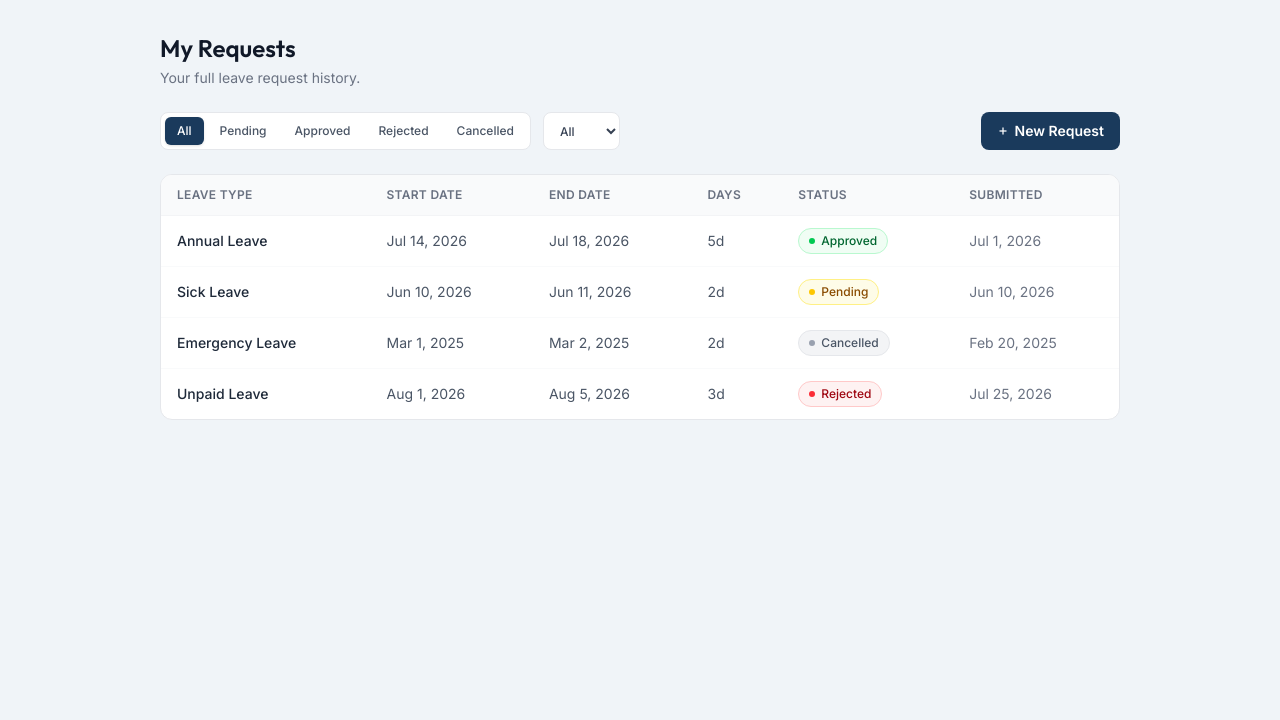
it: MyRequests cancel › shows a confirmation prompt before firing the POST
Expected: the text "Annual Leave" is shown, [161,216,370,266]
Click the button "Sick Leave Jun 10, 2026 Jun 11, 2026 2d Pending Jun 10, 2026" at [213, 292], box [161,266,1119,318]
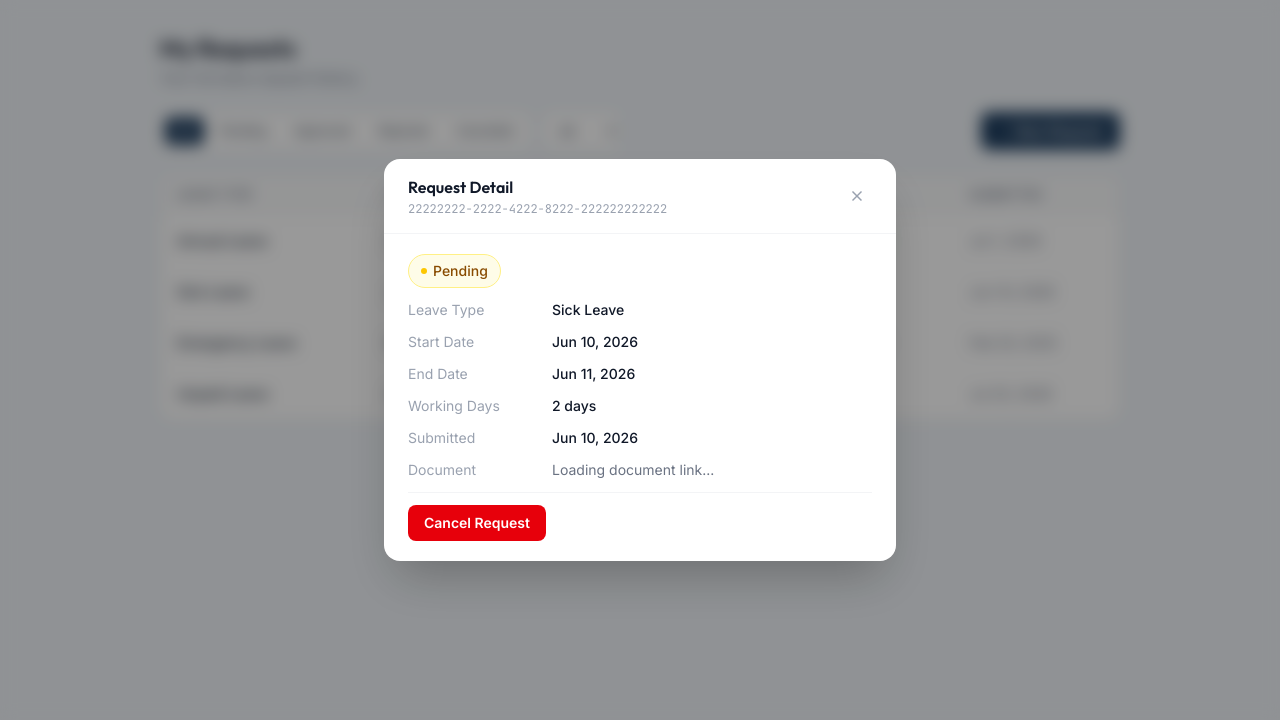
Expected: the dialog is shown
Click the button "Cancel Request" at [477, 523], box [408,505,546,541]
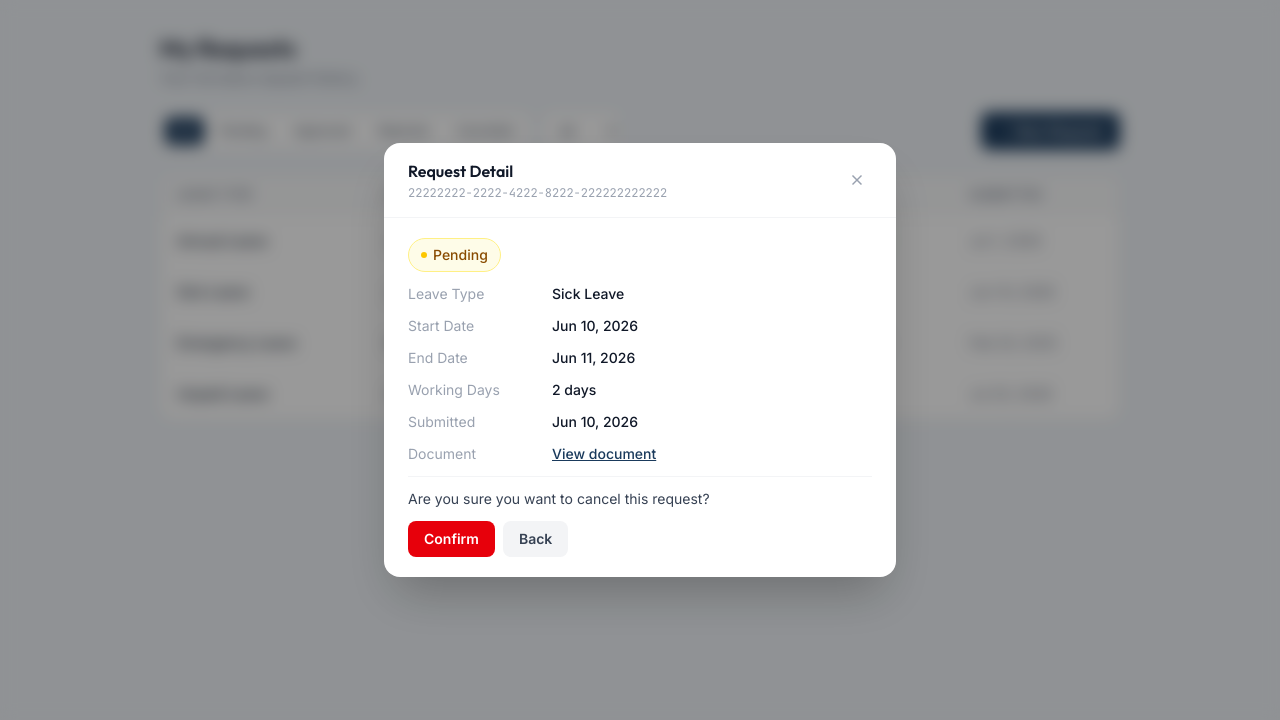
Expected: the text "Are you sure you want to cancel this request?" is shown, [408,490,710,507]
Click the button "Back" at [536, 539], box [503,521,568,557]
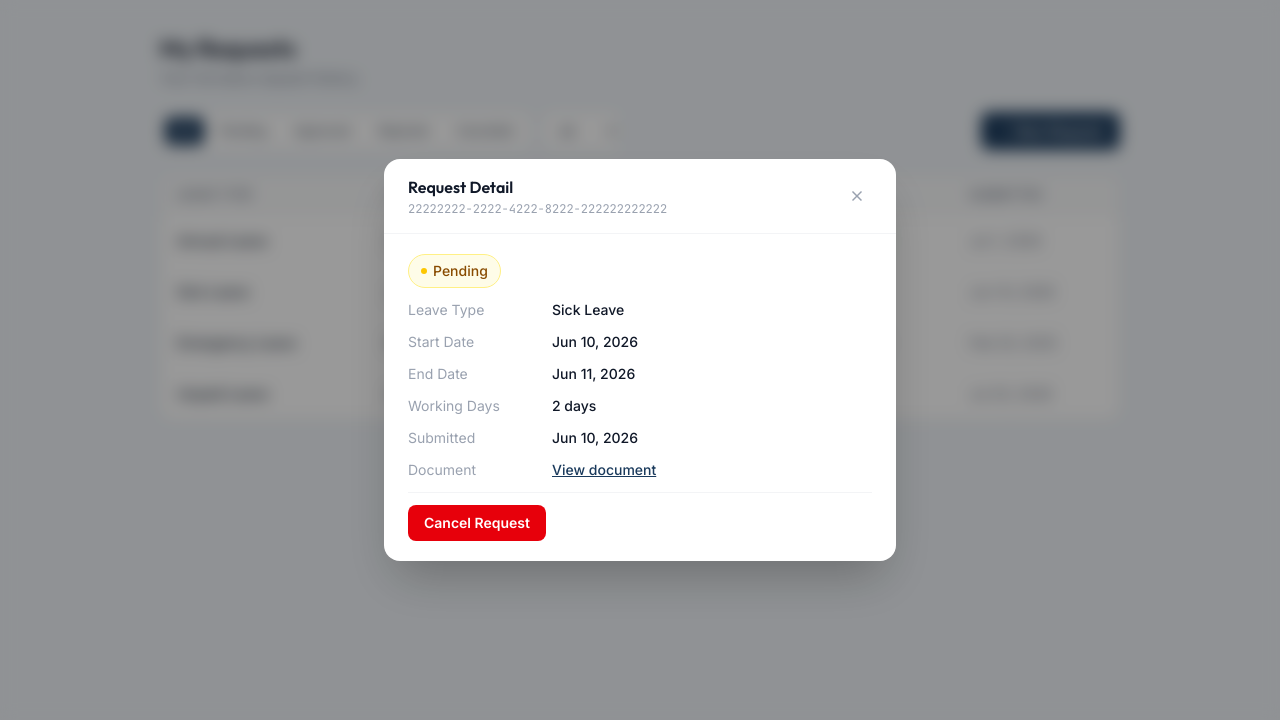
Expected: the text "Are you sure you want to cancel this request?" is gone
Expected: the button "Cancel Request" is shown, [408,505,546,541]
